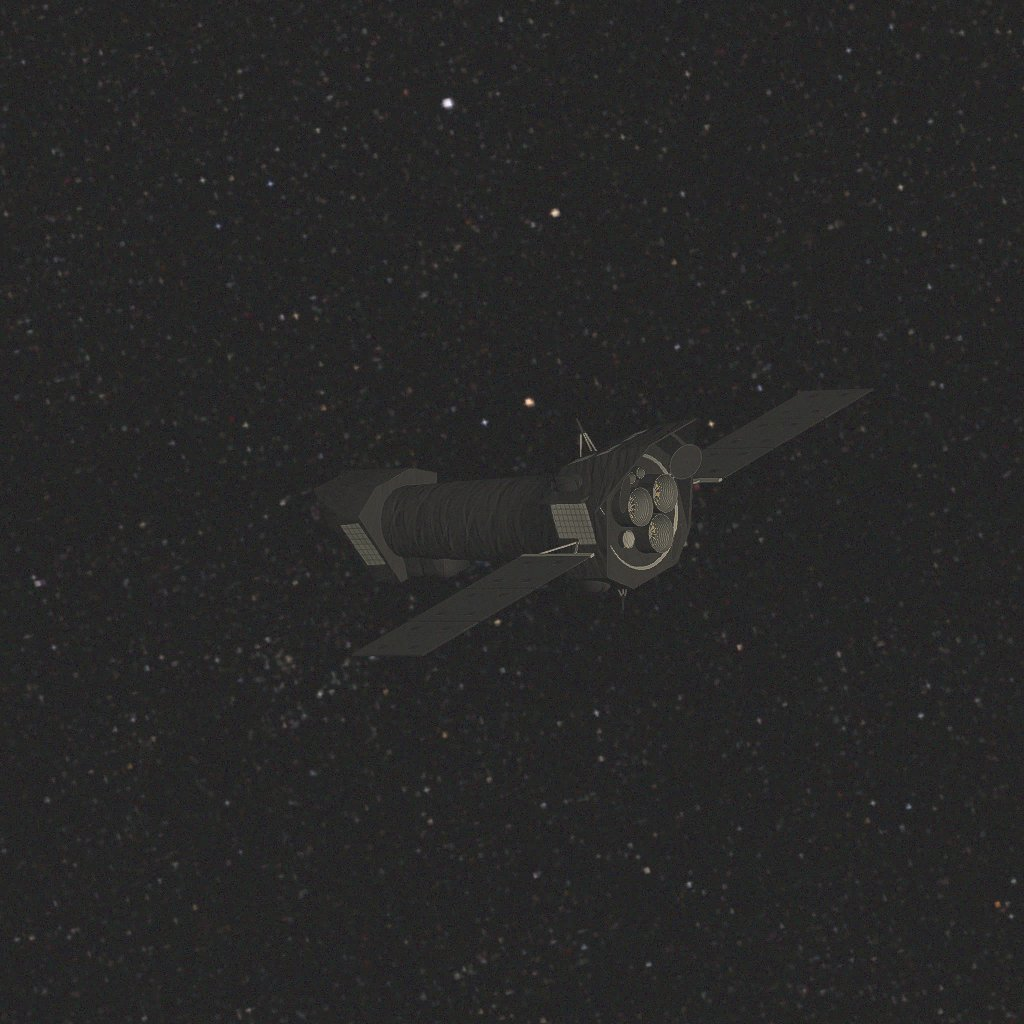xmm_newton: (314, 389, 873, 656)
